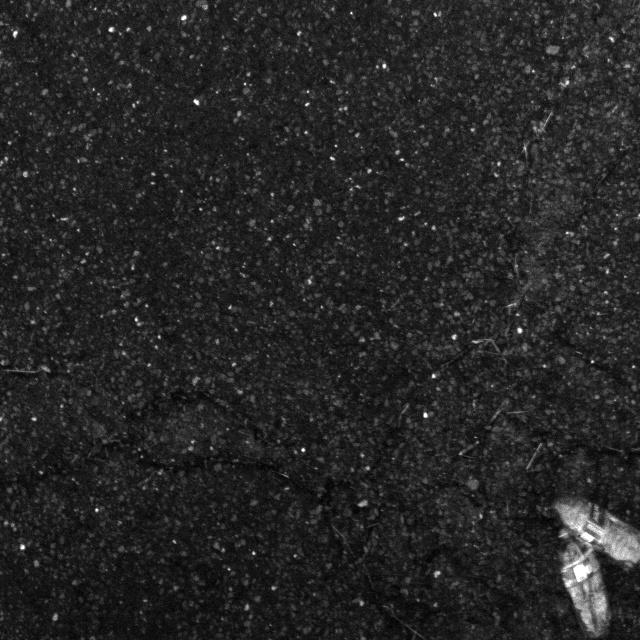bottle: (546, 484, 640, 571), (555, 534, 623, 640)
